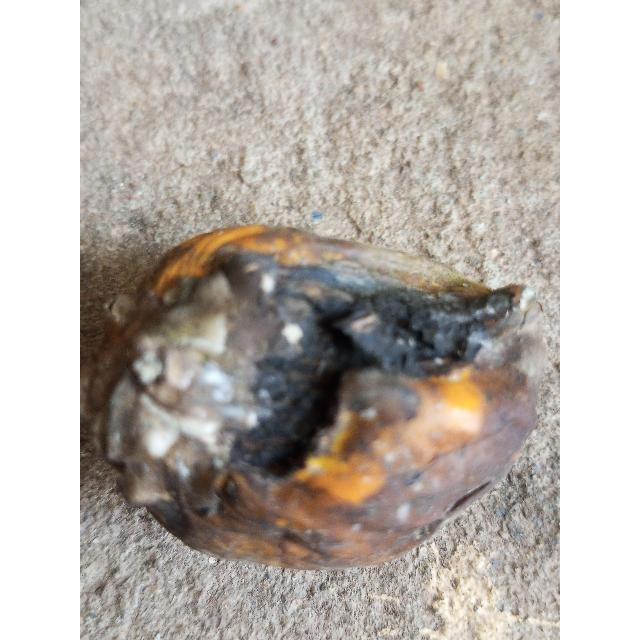damaged: (83, 225, 541, 573)
